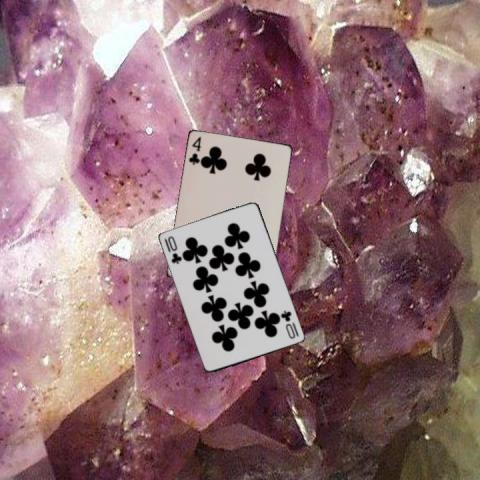10c: (278, 307, 300, 341), (162, 234, 184, 266)
4c: (186, 134, 203, 166)
